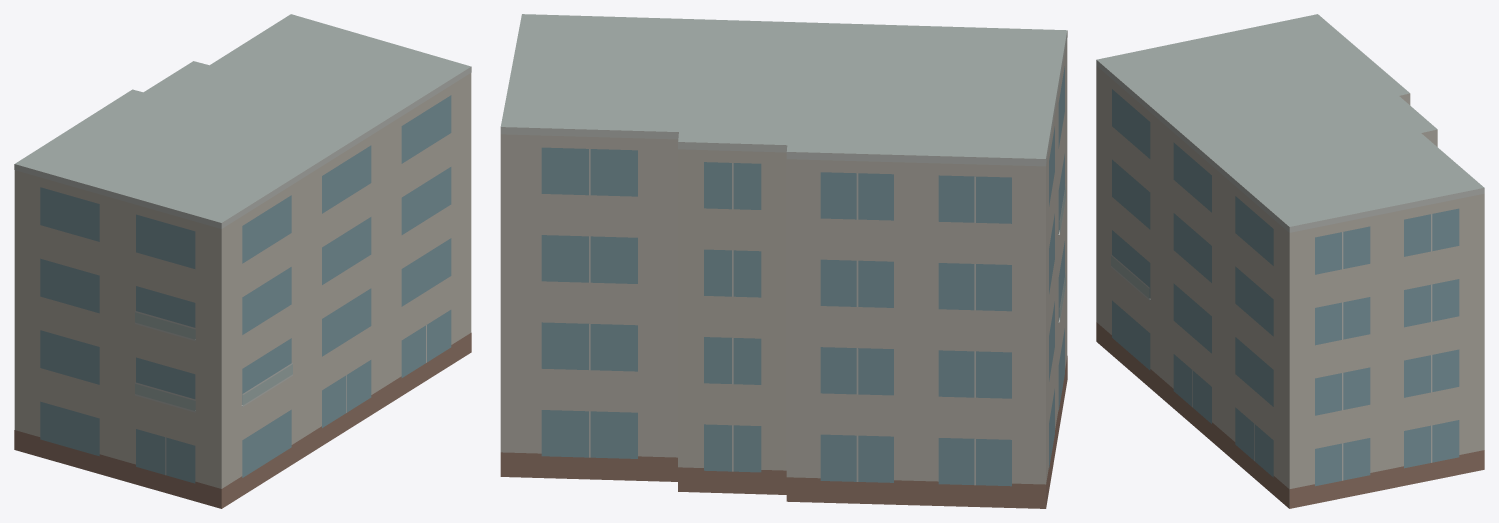
File: survey-upis-32742268.glb
The picture shows the model from 3 angles, left to right: view 1: azimuth 30°, elevation 25°; view 2: azimuth 150°, elevation 25°; view 3: azimuth 270°, elevation 25°; orthographic projection. The views are drawn at different scales.
Parts seen in each view (by area): view 1: survey-upis-32742268.tmp; view 2: survey-upis-32742268.tmp; view 3: survey-upis-32742268.tmp.
Boxes of the visible parts, box(x1,y1,x2,y2) form: survey-upis-32742268.tmp: box(14, 14, 471, 508); survey-upis-32742268.tmp: box(500, 14, 1067, 508); survey-upis-32742268.tmp: box(1096, 14, 1484, 508).
Size of the model in its own units: 18.81 by 11.6 by 14.49.
